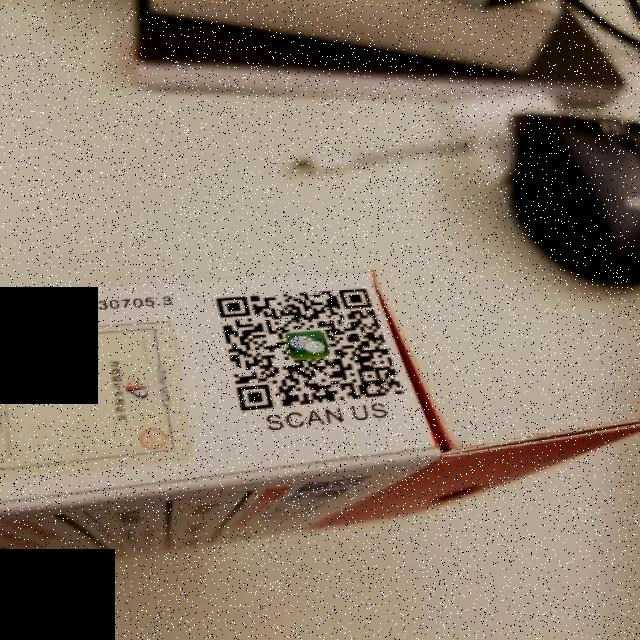QR_CODE: (205, 274, 418, 418)
